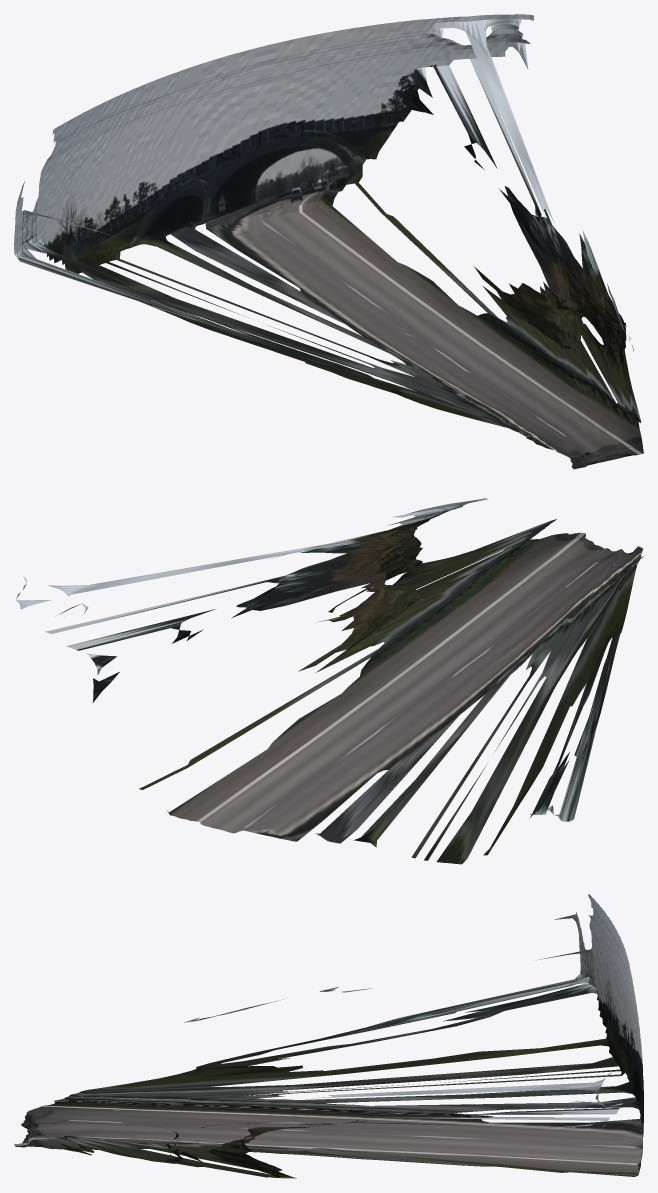
3 renders of one model, top to bottom at view 1: azimuth 30°, elevation 25°; view 2: azimuth 150°, elevation 25°; view 3: azimuth 270°, elevation 25°, orthographic. The views are drawn at different scales.
Parts seen in each view (by area): view 1: defaultobject; view 2: defaultobject; view 3: defaultobject.
Boxes of the visible parts, bbox=[...] form: defaultobject: bbox=[14, 14, 643, 469]; defaultobject: bbox=[16, 498, 643, 864]; defaultobject: bbox=[14, 894, 643, 1178].
Size of the model in its own units: 38.12 by 12.47 by 44.79.
Materials: 1 (1 with a texture image).
